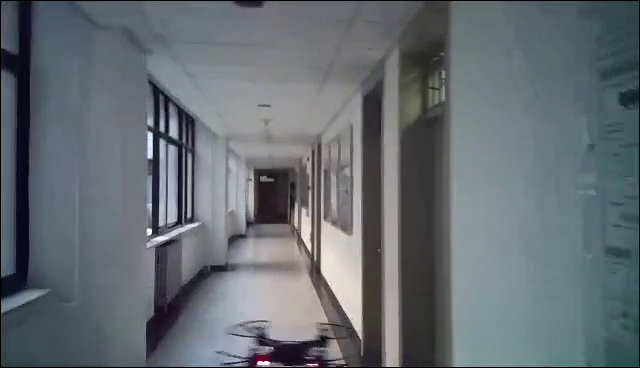drone: (215, 317, 359, 365)
